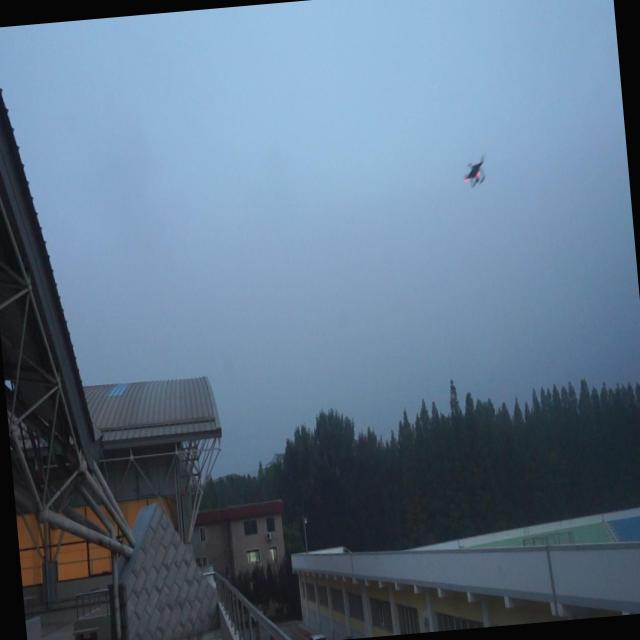drone: (458, 154, 489, 194)
